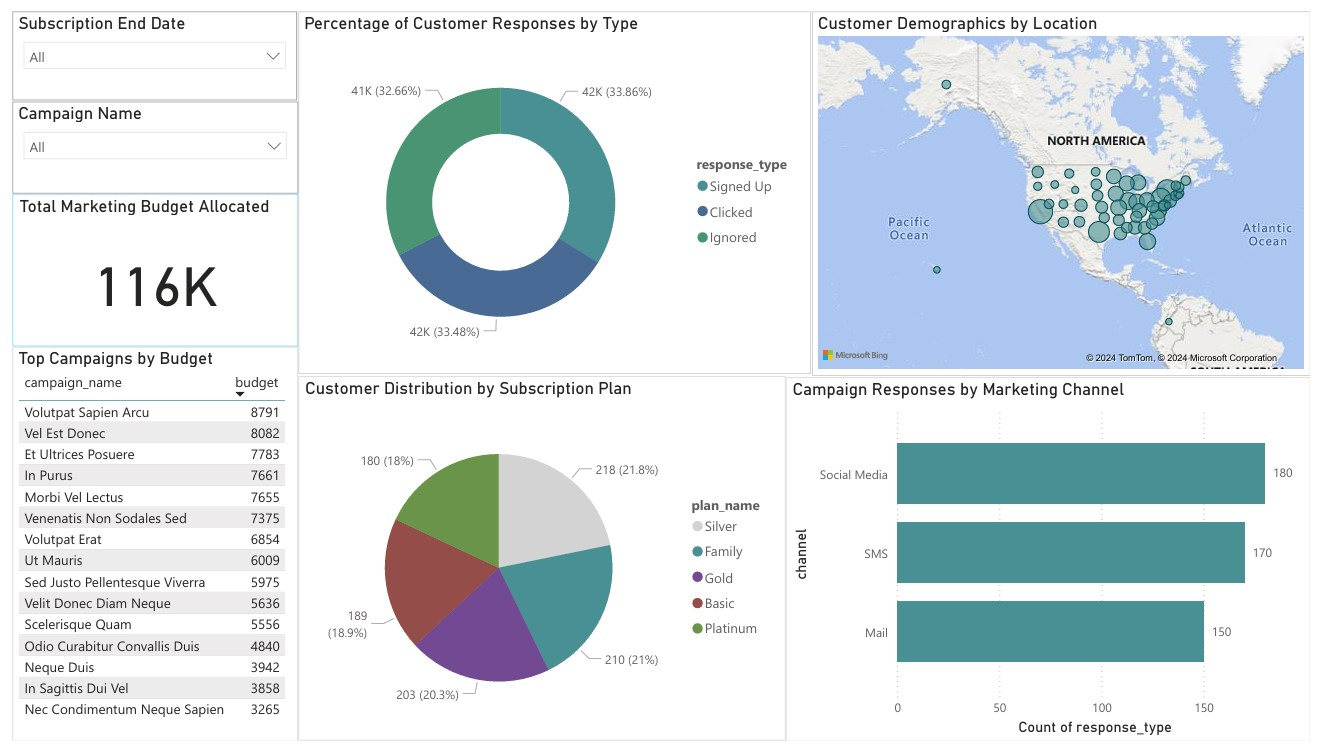

The page's visual inventory and layout, read from the dashboard file:
{"tool":"powerbi","page":{"name":"Marketing Campaign Overview with Customer Trends","canvas":[1280,720],"ordinal":0},"visuals":[{"type":"map","title":"Customer Demographics by Location","fields":{"Category":["customers.state"],"Size":["CountNonNull(customers.customer_id)"]},"box":[789.2,0,491.4,359.6],"z":1000},{"type":"barChart","title":"Campaign Responses by Marketing Channel","fields":{"Category":["responses.channel"],"Y":["CountNonNull(responses.response_type)"]},"box":[762.7,361.1,518.2,359.5],"z":2000},{"type":"pieChart","title":"Customer Distribution by Subscription Plan","fields":{"Y":["CountNonNull(subscriptions.customer_id)"],"Category":["subscriptions.plan_name"]},"box":[281.7,360,481.7,360],"z":3000},{"type":"tableEx","title":"Top Campaigns by Budget","fields":{"Values":["campaigns.campaign_name","campaigns.budget"]},"box":[0,331.1,282,390.2],"z":4000},{"type":"slicer","title":"Subscription End Date","fields":{"Values":["subscriptions.end_date"]},"box":[0,0,281.5,87.9],"z":5000},{"type":"card","title":"Total Marketing Budget Allocated","fields":{"Values":["campaigns.Total Budget"]},"box":[0,180.3,282,150.8],"z":6000},{"type":"donutChart","title":"Percentage of Customer Responses by Type","fields":{"Category":["responses.response_type"],"Y":["Sum(responses.response_id)"]},"box":[281.7,0,506.7,358.3],"z":7000},{"type":"slicer","title":"Campaign Name","fields":{"Values":["campaigns.campaign_name"]},"box":[0,88.5,282,91.8],"z":8000}]}

Visuals, with their boxes in screenshot pixels (x1, y1, x2, y2), scaled from the page's 1280x720 canvas onto the 1321x751 screenshot:
"Customer Demographics by Location" map: detection(814, 0, 1320, 375)
"Campaign Responses by Marketing Channel" barChart: detection(787, 377, 1320, 750)
"Customer Distribution by Subscription Plan" pieChart: detection(291, 376, 788, 750)
"Top Campaigns by Budget" tableEx: detection(0, 345, 291, 750)
"Subscription End Date" slicer: detection(0, 0, 291, 92)
"Total Marketing Budget Allocated" card: detection(0, 188, 291, 345)
"Percentage of Customer Responses by Type" donutChart: detection(291, 0, 814, 374)
"Campaign Name" slicer: detection(0, 92, 291, 188)
